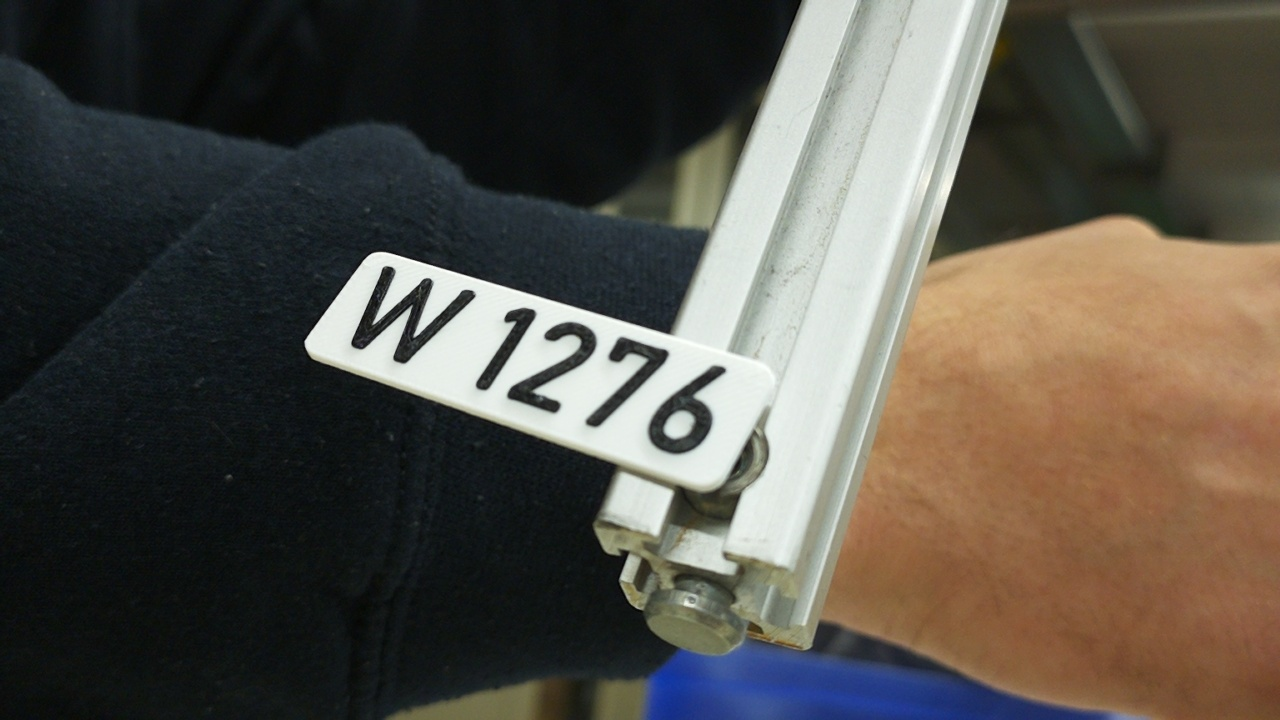license_plate: (300, 245, 780, 499)
